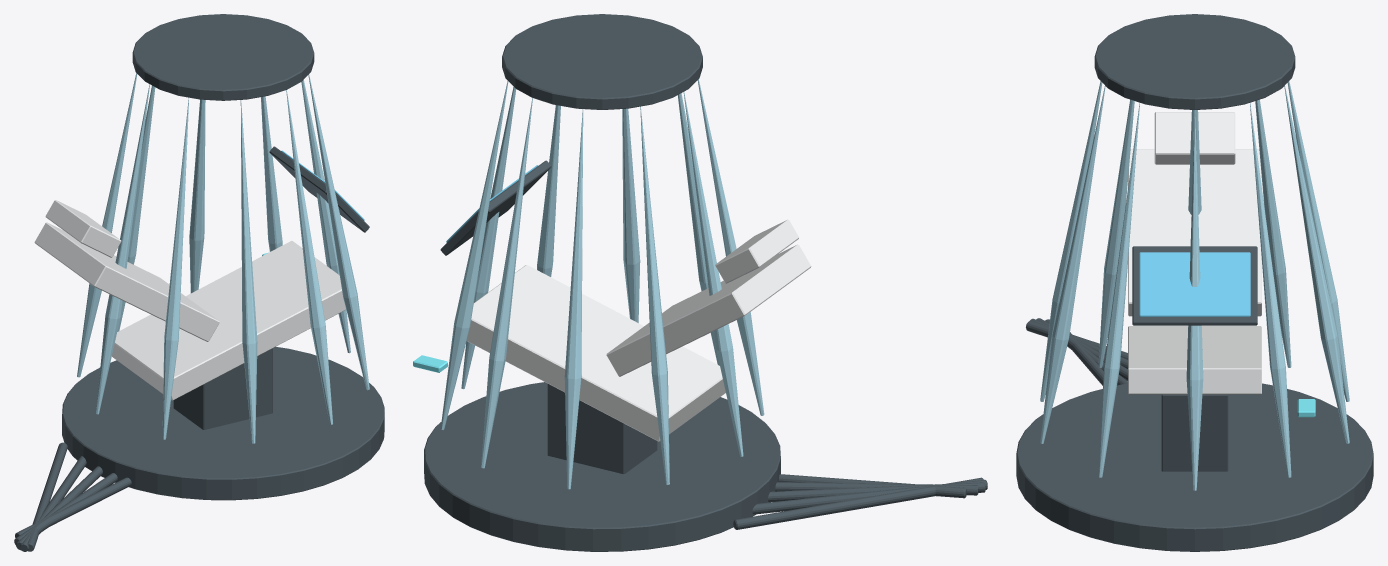
File: SM_NeuralCradle.fbx
The picture shows the model from 3 angles, left to right: view 1: azimuth 30°, elevation 25°; view 2: azimuth 150°, elevation 25°; view 3: azimuth 270°, elevation 25°; orthographic projection. The views are drawn at different scales.
Parts seen in each view (by area): view 1: SM_NeuralCradle; view 2: SM_NeuralCradle; view 3: SM_NeuralCradle.
Boxes of the visible parts, box(x1,y1,x2,y2) form: SM_NeuralCradle: box(14, 14, 384, 551); SM_NeuralCradle: box(413, 14, 987, 551); SM_NeuralCradle: box(1016, 14, 1373, 551).
Bounding box in the file's own units: 238 × 208 × 160.
